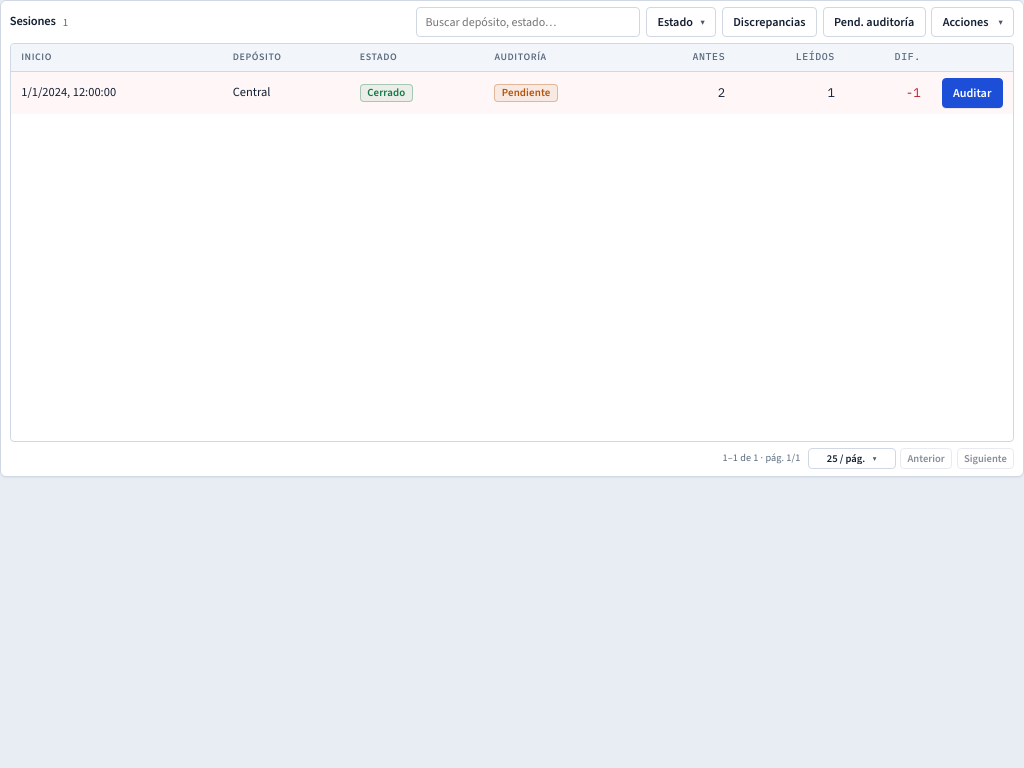
Test: InventariosPage › lista sesiones y abre auditoría de un inventario cerrado
The width and height of the screenshot is (1024, 768).
Expected: the heading "Sesiones" is shown, [10,14,56,31]
Expected: the button "Acciones ▾" is shown, [931,7,1014,37]
Click the button "Estado ▾": (681, 22) [646,7,716,37]
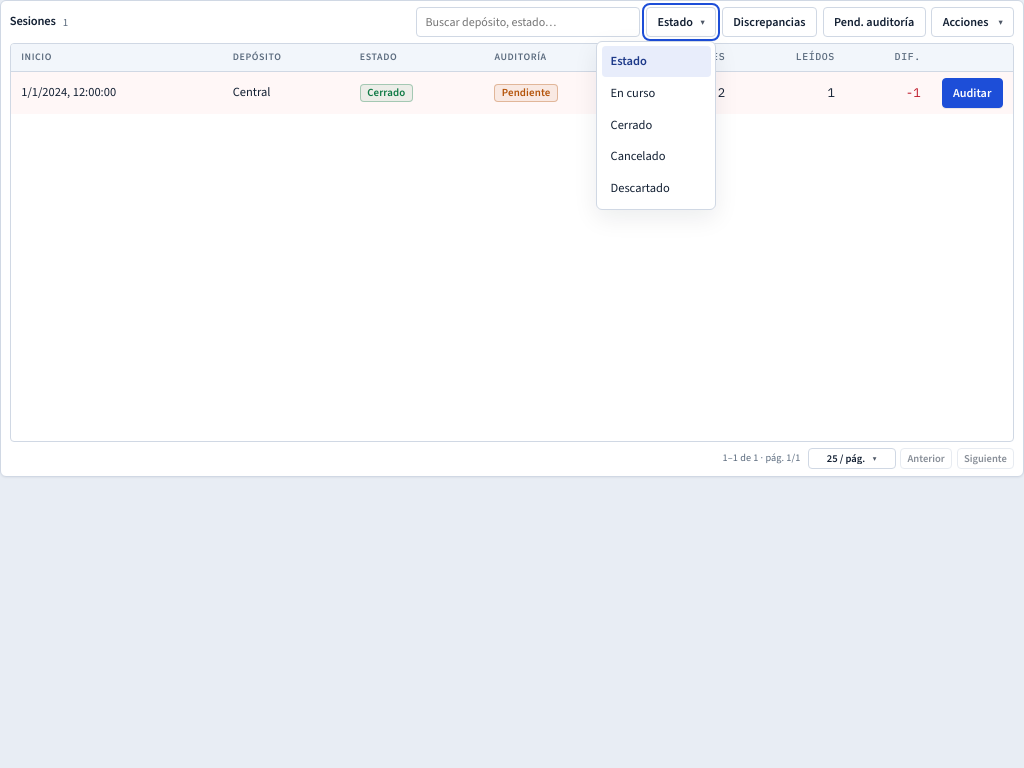
Expected: the text "Pendiente" is shown, [494,84,558,102]
Now the option "Cerrado" is shown, box [602,110,711,140]
Click the button "Auditar": (972, 93) [942,78,1003,108]
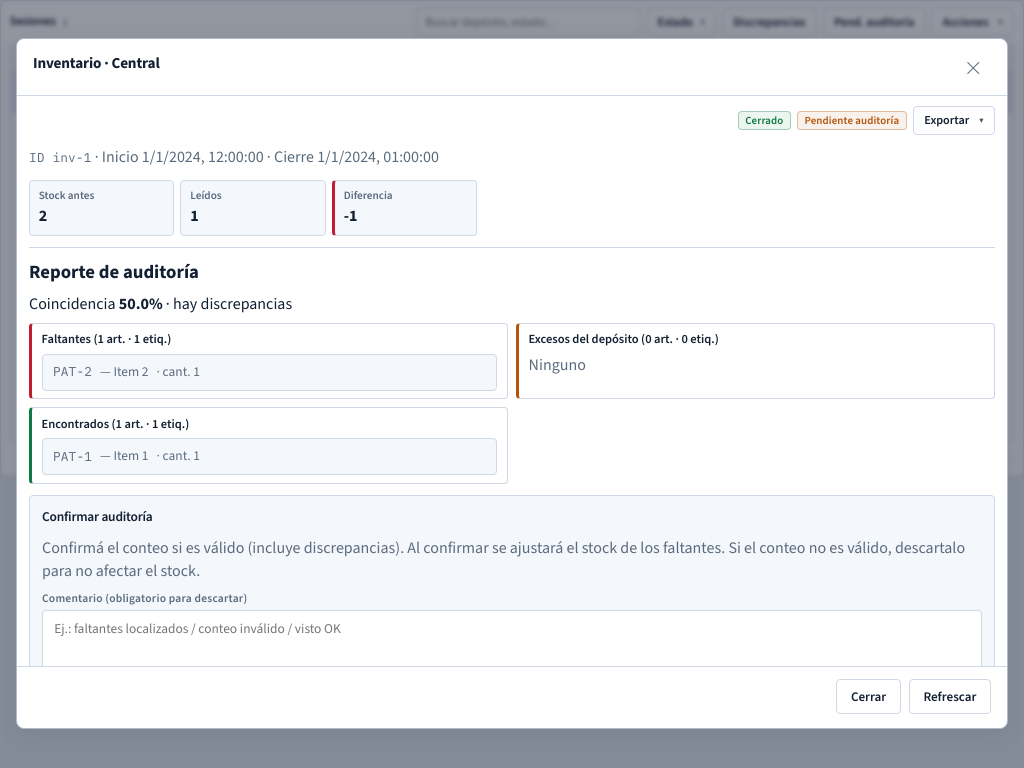
Now the heading "Reporte de auditoría" is shown, box [29,259,199,284]
Now the text "Stock antes" is shown, box [39,188,94,204]
Now the text "Diferencia" is shown, box [344,188,393,204]
